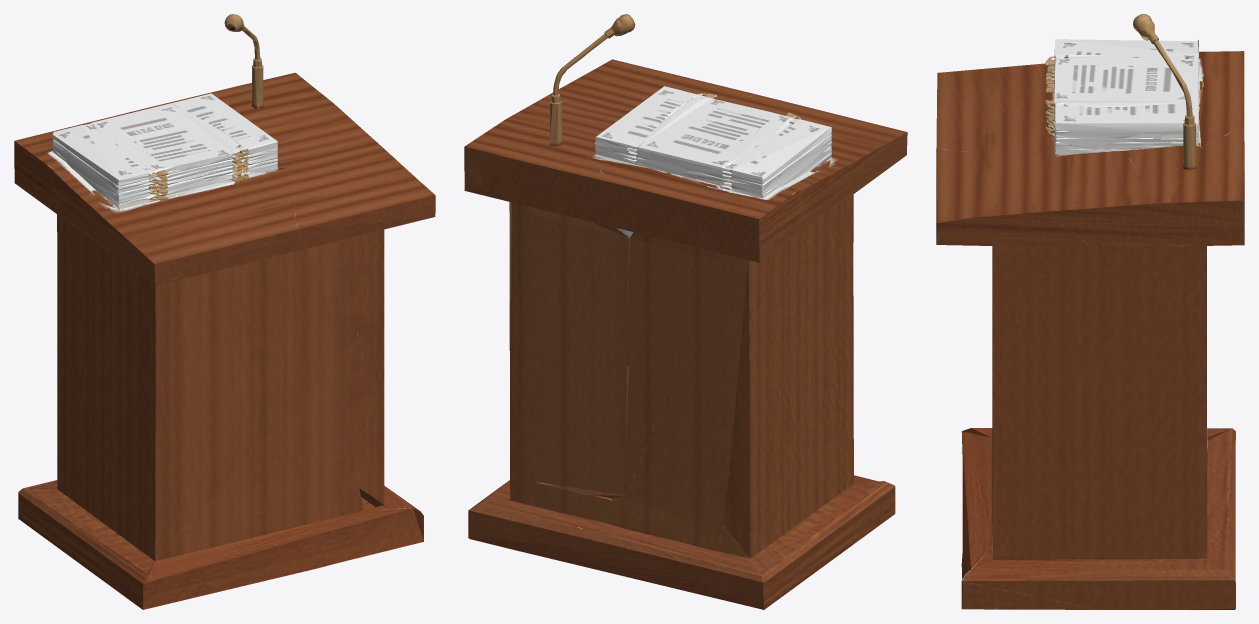
The picture shows the model from 3 angles, left to right: view 1: azimuth 30°, elevation 25°; view 2: azimuth 150°, elevation 25°; view 3: azimuth 270°, elevation 25°; orthographic projection. The views are drawn at different scales.
Bounding box in the file's own units: 1.14 × 1.9 × 0.9873.
Materials: 1 (1 with a texture image).
